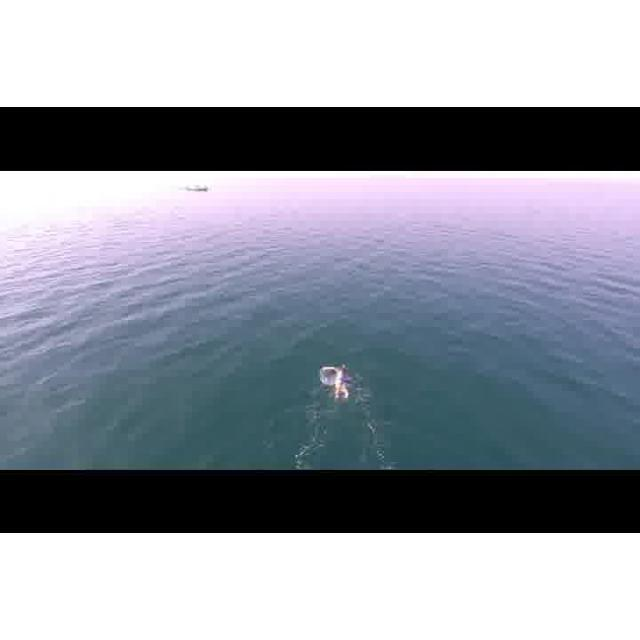human: (321, 359, 351, 402)
